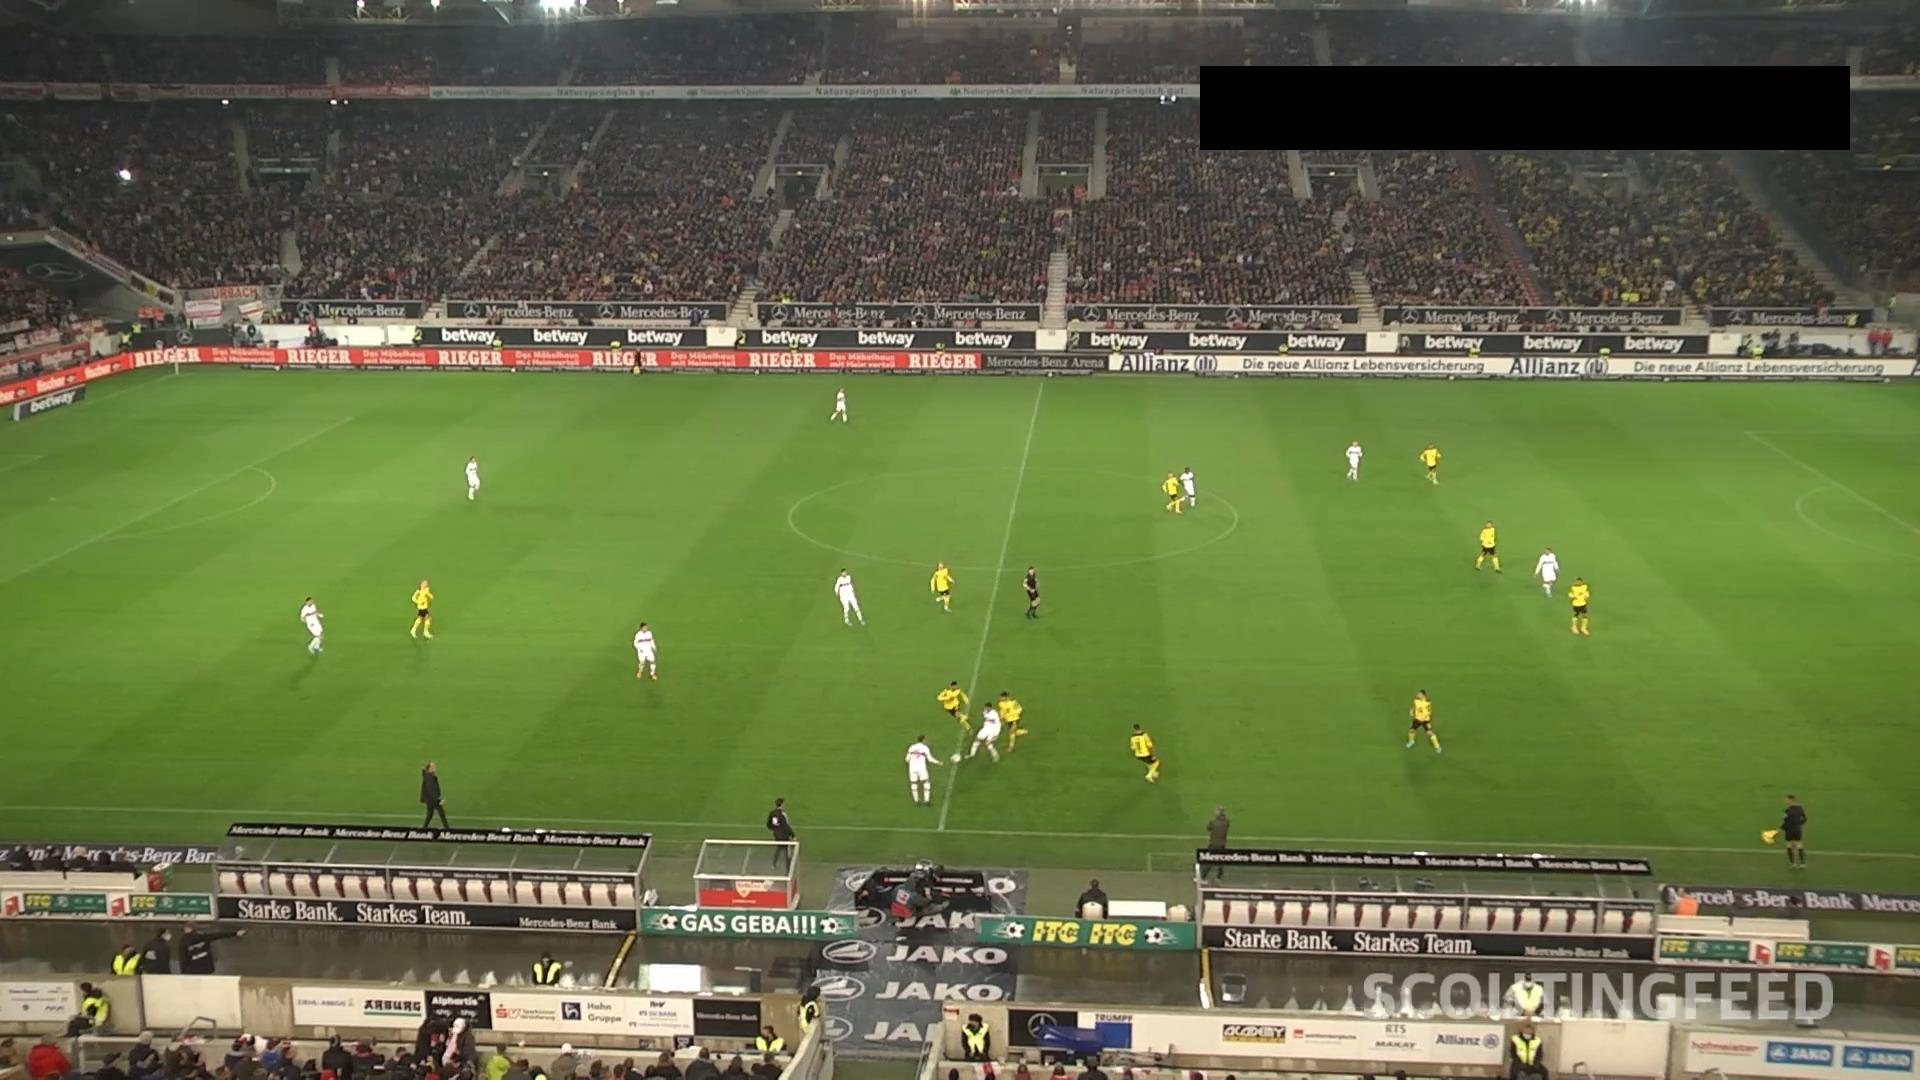ball: (949, 752, 961, 765)
